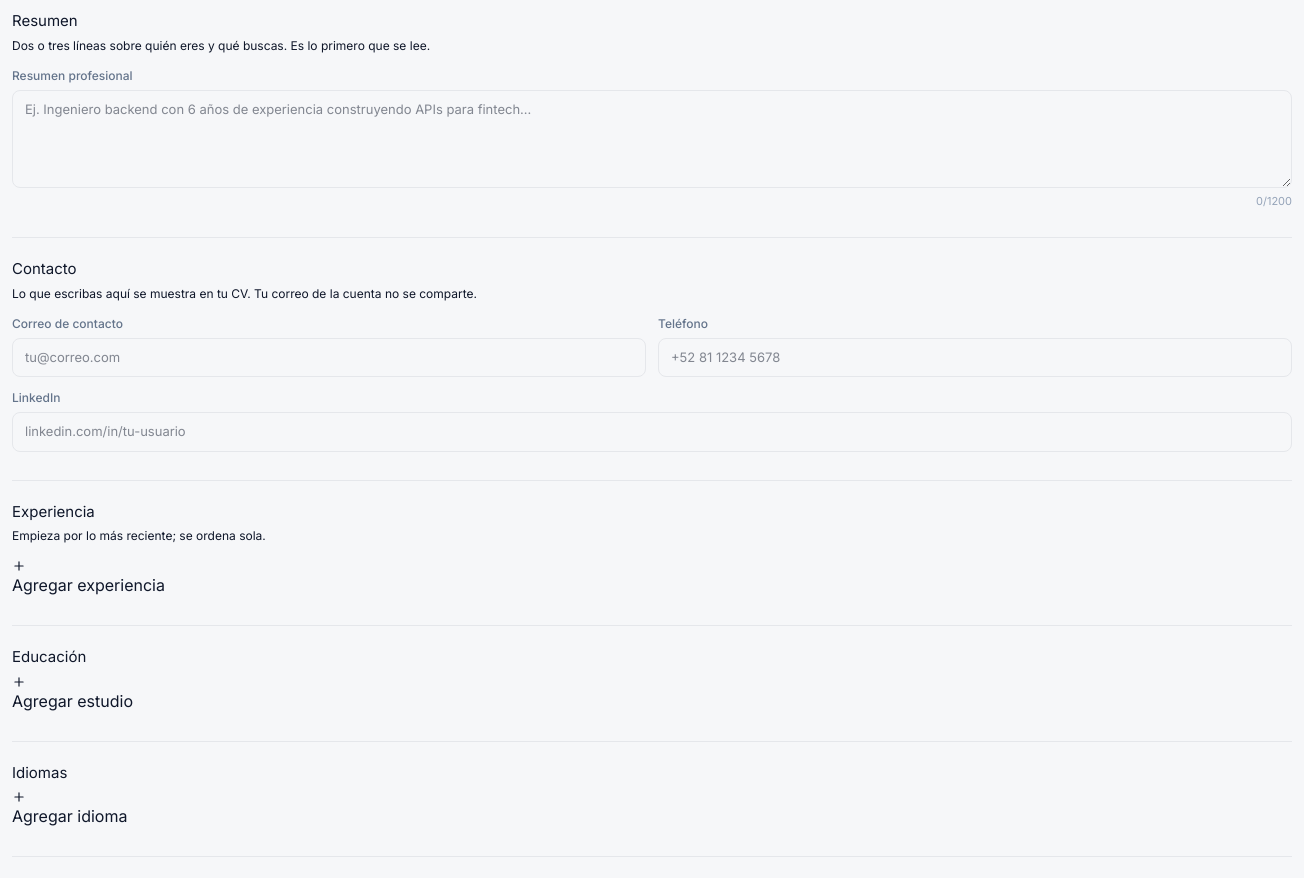
Scenario: CvSettings form › survives a connection failure
Replace the text in the text box labelled "Resumen profesional" with "Hola" at (652, 138), box [12,90,1292,188]
(page scrolled)
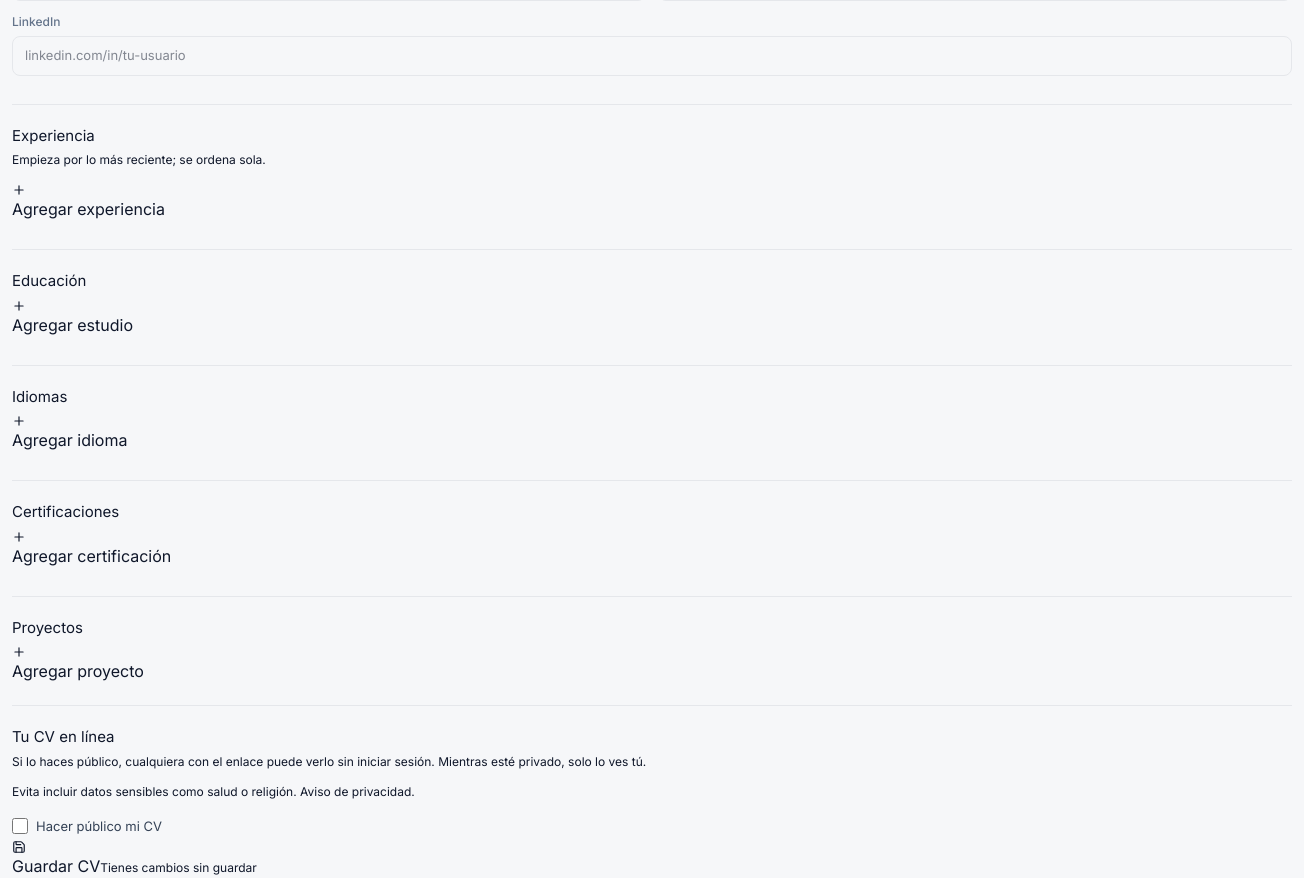
Click the button "Guardar CV" at (56, 859), box [12,840,100,877]
(page scrolled)
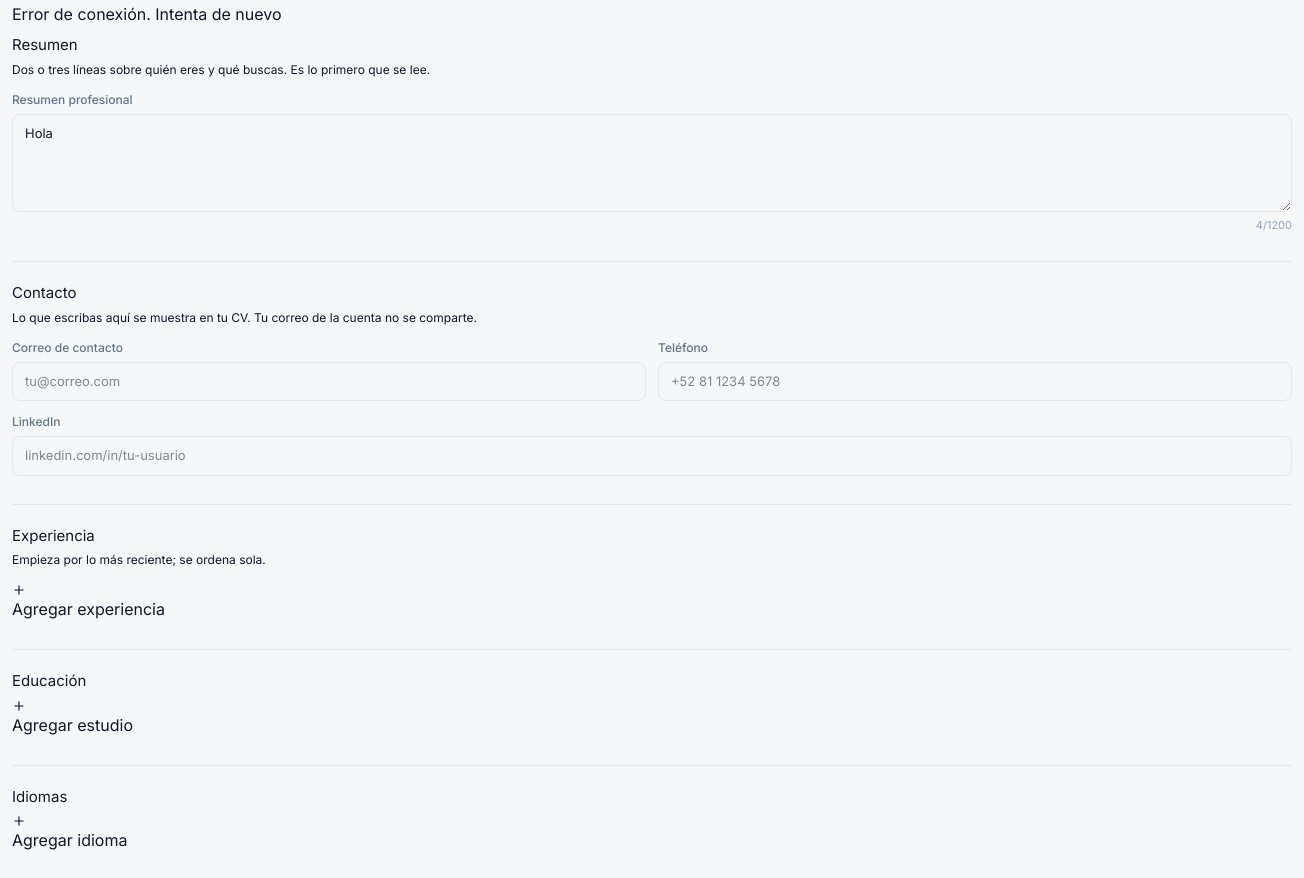
Now the message shows "conexión", box [12,4,282,24]
